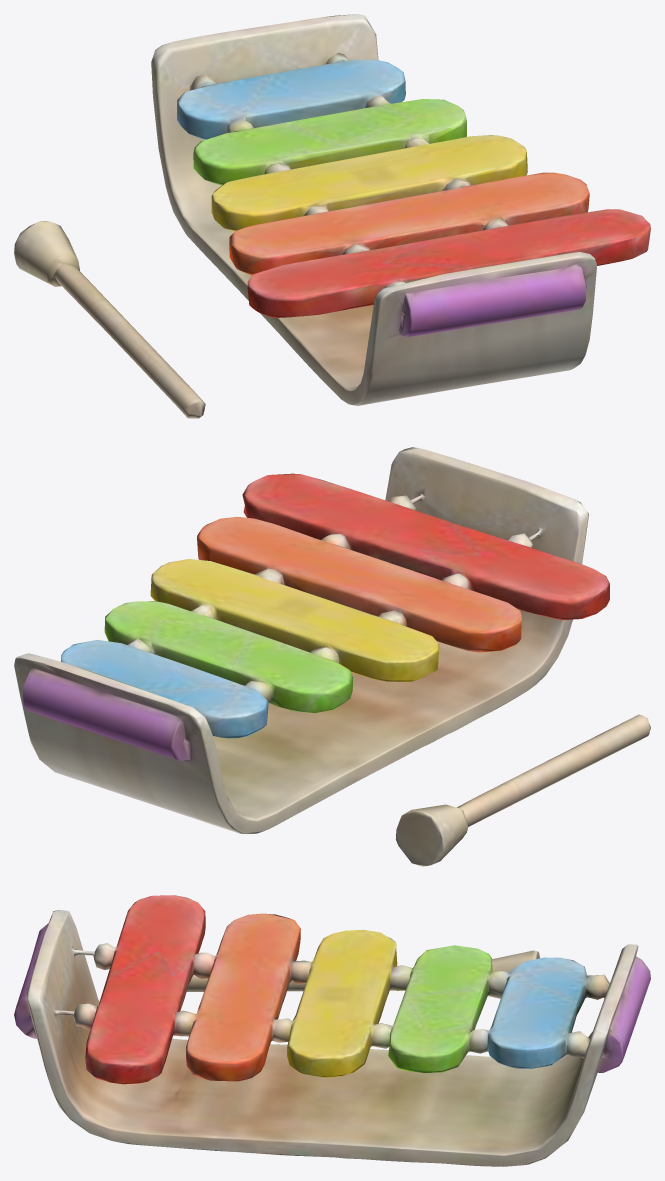
Rendered from gso_oval_xylophone.glb.
3 views of the same model, one above another, from view 1: azimuth 30°, elevation 25°; view 2: azimuth 150°, elevation 25°; view 3: azimuth 270°, elevation 25° (orthographic). The views are drawn at different scales.
Visible parts, largest first — view 1: z-up-to-y-up; view 2: z-up-to-y-up; view 3: z-up-to-y-up.
Part boxes in pixels (box(x1,y1,x2,y2)): z-up-to-y-up: box(14, 14, 650, 418); z-up-to-y-up: box(14, 447, 650, 866); z-up-to-y-up: box(14, 895, 650, 1166).
Bounding box in the file's own units: 0.2077 × 0.0713 × 0.2837.
1 material, 1 textured.
